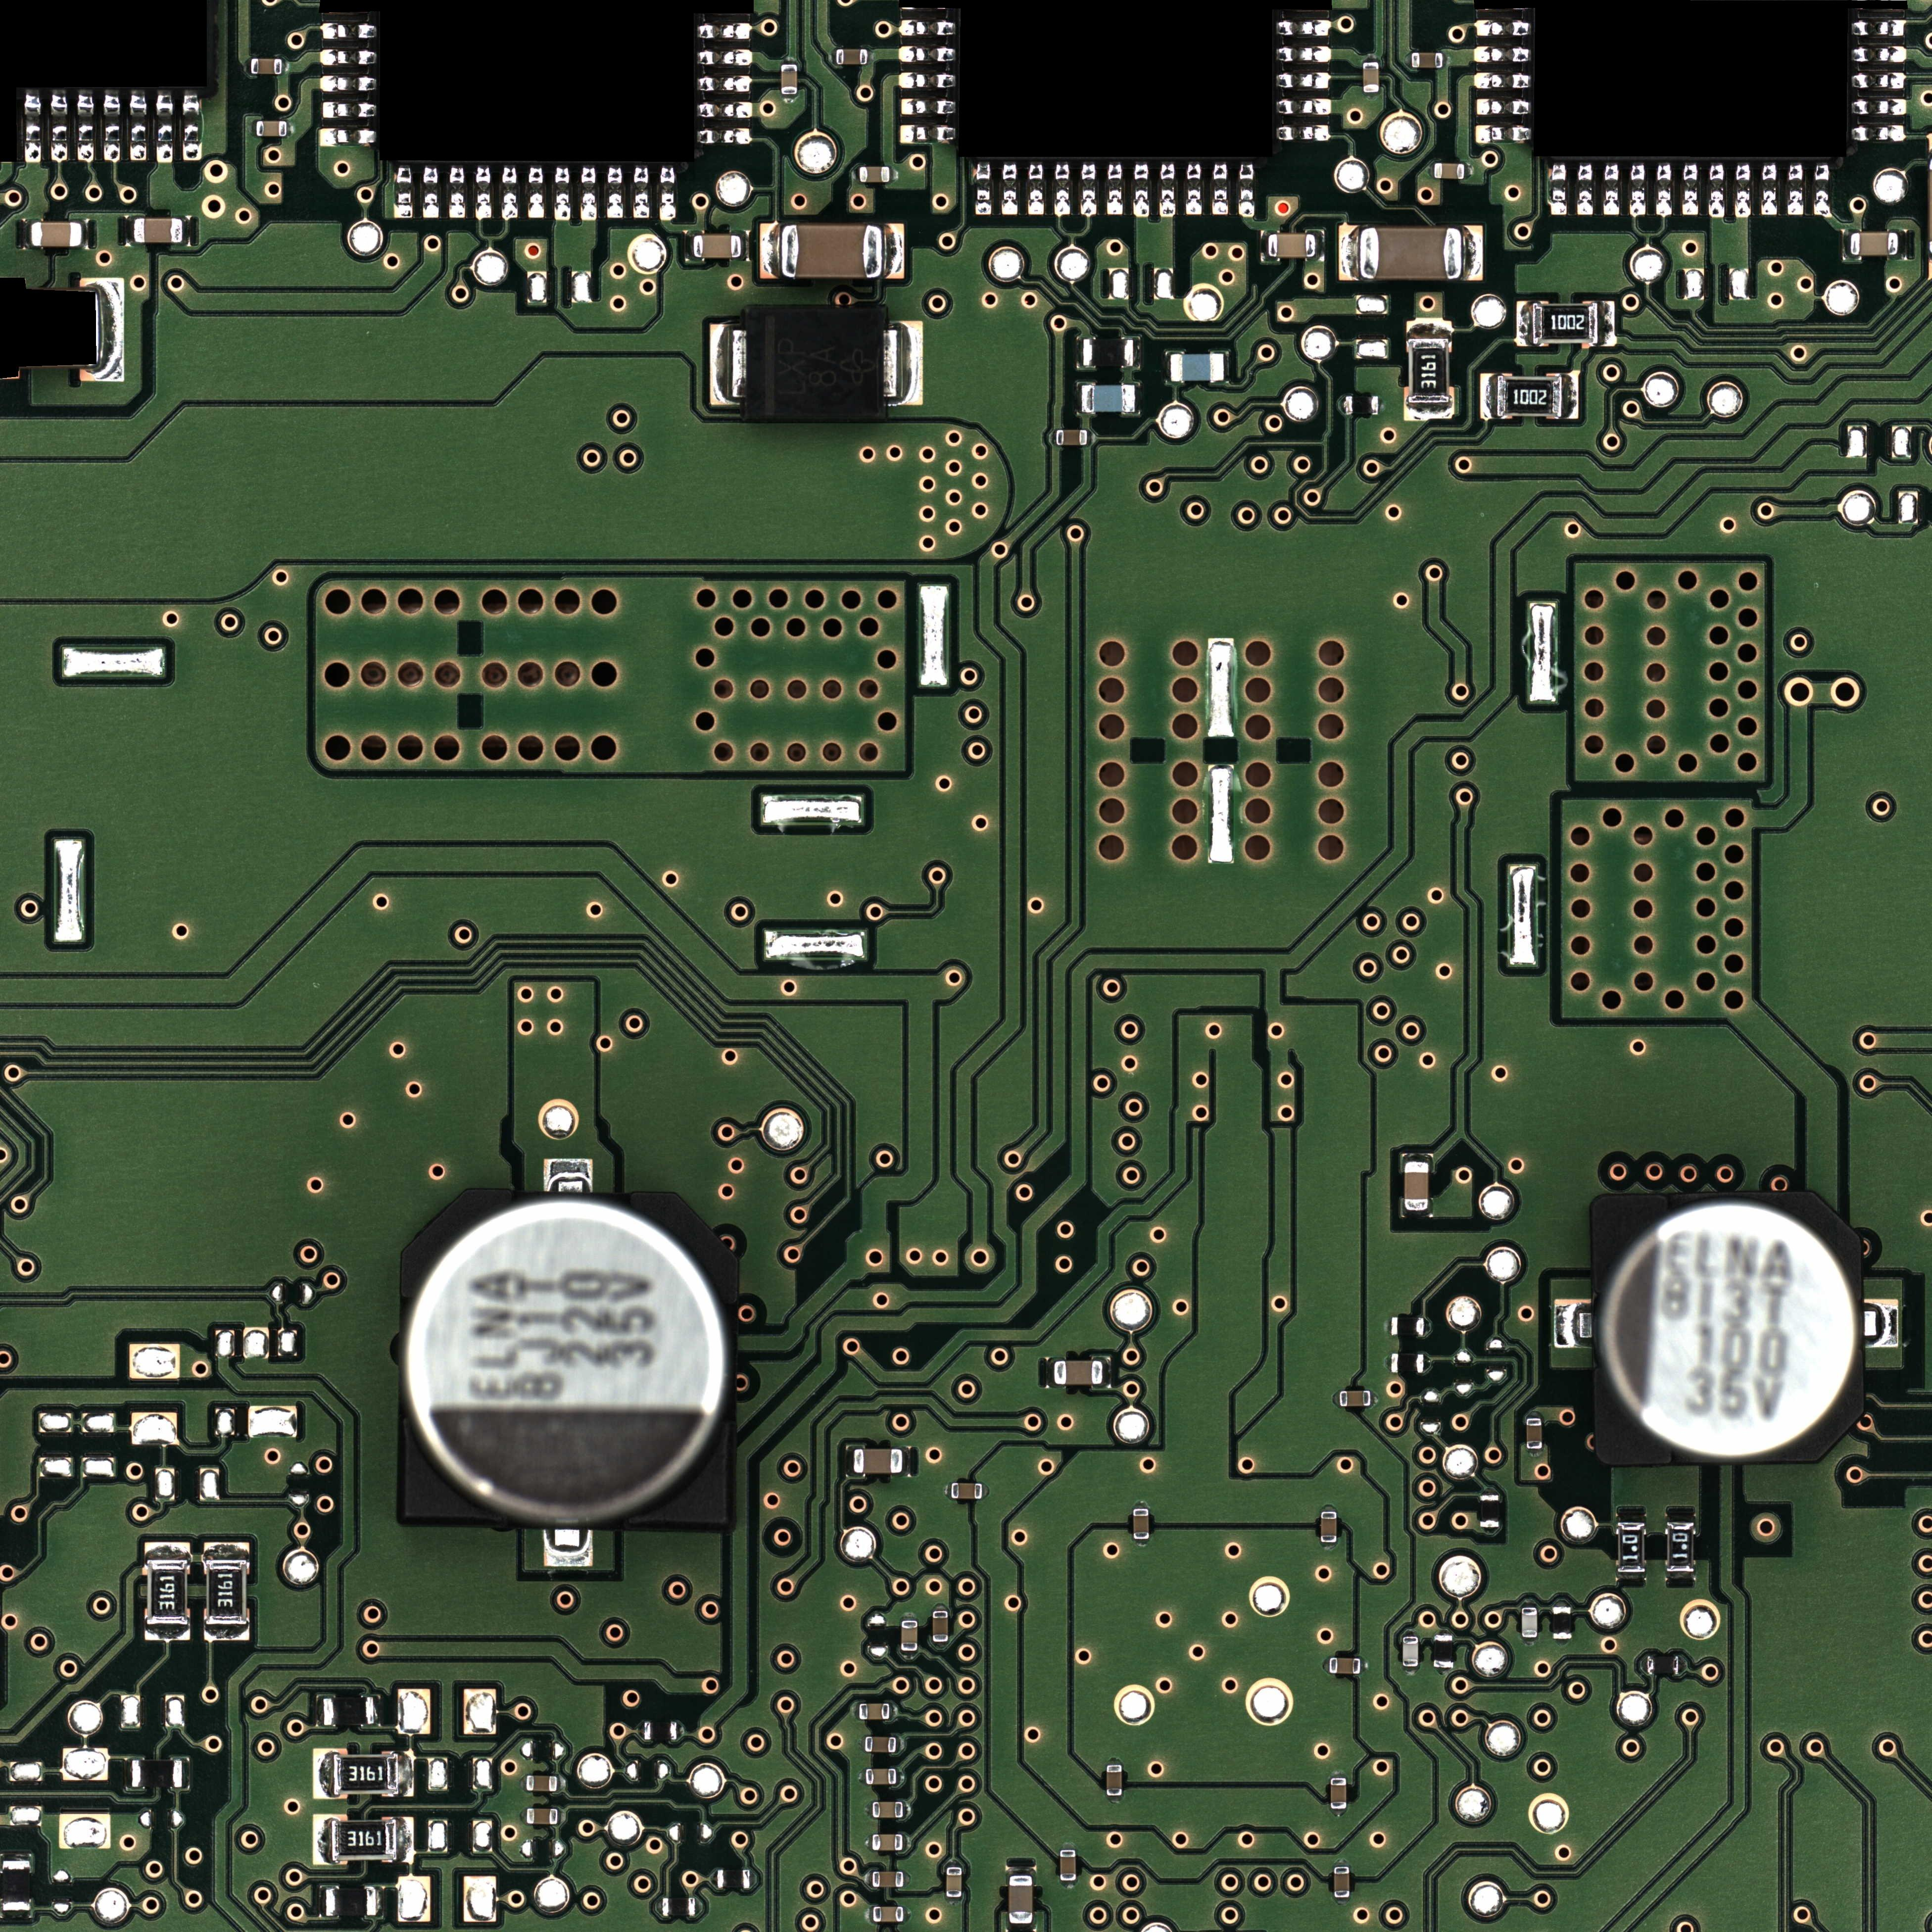Package: (398, 1192, 731, 1527), (1594, 1198, 1861, 1461), (748, 310, 883, 423), (780, 225, 883, 278), (1359, 226, 1461, 280), (1497, 375, 1562, 418), (333, 1755, 398, 1796), (331, 1821, 396, 1861), (1532, 303, 1598, 343), (1408, 338, 1449, 403), (205, 1560, 246, 1624), (147, 1560, 188, 1624), (131, 1760, 182, 1789), (1171, 354, 1224, 380), (1081, 386, 1134, 412), (326, 1888, 375, 1916), (324, 1697, 373, 1725), (2, 1861, 30, 1911), (1083, 338, 1132, 366), (30, 221, 81, 246), (1008, 1875, 1033, 1925), (1619, 1523, 1644, 1573), (134, 218, 182, 242), (855, 1449, 902, 1474), (1054, 1361, 1102, 1385), (1668, 1523, 1693, 1571), (1269, 234, 1315, 258), (694, 235, 741, 258), (1851, 232, 1898, 255), (1405, 1162, 1428, 1210), (1391, 1353, 1424, 1373), (644, 1721, 676, 1741), (1433, 1635, 1453, 1667), (662, 1898, 695, 1916), (1345, 396, 1378, 414), (1391, 1318, 1424, 1336), (718, 1870, 750, 1888), (1481, 1495, 1499, 1527), (1553, 1606, 1571, 1638), (1647, 1656, 1679, 1674), (865, 1769, 897, 1785), (872, 1872, 904, 1888), (1334, 1867, 1350, 1898), (1339, 1391, 1371, 1407), (1329, 1658, 1361, 1674), (251, 58, 281, 74), (257, 120, 287, 136), (837, 50, 867, 65), (782, 64, 798, 94), (860, 166, 890, 182), (527, 1808, 557, 1824), (527, 1776, 557, 1792), (865, 1737, 895, 1753), (932, 1612, 948, 1642), (947, 1867, 962, 1897), (860, 1704, 890, 1720), (952, 1483, 982, 1499), (901, 1621, 916, 1651), (872, 1801, 902, 1817), (872, 1835, 902, 1851), (1056, 430, 1086, 446), (1362, 62, 1378, 92), (1435, 163, 1465, 179), (1403, 1637, 1419, 1667), (1106, 1766, 1122, 1796), (1330, 1778, 1346, 1808), (1060, 1851, 1076, 1881), (1320, 1513, 1336, 1543), (1527, 1419, 1543, 1449), (1522, 1608, 1537, 1637), (874, 1907, 904, 1921), (1412, 53, 1442, 67), (1134, 1509, 1148, 1539)
Solder: (883, 320, 924, 405), (709, 322, 747, 405), (101, 278, 124, 382), (543, 1529, 593, 1568), (1553, 1299, 1592, 1348), (1861, 1299, 1898, 1348), (543, 1157, 593, 1192), (23, 88, 42, 163), (50, 88, 69, 163), (103, 88, 122, 163), (182, 90, 202, 165), (156, 92, 175, 166), (129, 90, 149, 165), (76, 90, 96, 163), (1470, 71, 1532, 90), (1470, 97, 1532, 117), (883, 223, 904, 280), (1461, 225, 1483, 281), (1472, 44, 1532, 64), (1472, 124, 1532, 143), (759, 223, 780, 278), (499, 166, 520, 221), (632, 166, 653, 221), (318, 21, 377, 41), (897, 18, 955, 37), (897, 44, 955, 64), (897, 97, 955, 117), (897, 71, 955, 90), (1849, 18, 1907, 37), (1851, 44, 1909, 64), (1851, 71, 1909, 90), (1851, 124, 1909, 143), (1851, 97, 1909, 117), (525, 166, 547, 219), (1339, 225, 1359, 281), (1474, 18, 1530, 37), (658, 166, 678, 221), (973, 161, 993, 216), (1000, 161, 1019, 216), (1053, 161, 1072, 216), (1026, 161, 1046, 216), (1131, 163, 1150, 218), (1184, 163, 1203, 218), (1210, 163, 1230, 218), (320, 48, 379, 65), (320, 74, 379, 92), (320, 101, 379, 119), (318, 127, 377, 145), (395, 165, 414, 218), (421, 166, 441, 219), (474, 166, 494, 219), (448, 165, 467, 218), (554, 168, 573, 221), (580, 168, 600, 221), (897, 126, 955, 143), (1104, 163, 1123, 216), (1079, 163, 1099, 216), (1157, 163, 1177, 216), (1707, 165, 1727, 218), (1681, 165, 1700, 218), (695, 101, 752, 119), (695, 74, 752, 92), (697, 127, 754, 145), (1276, 46, 1332, 64), (1277, 97, 1334, 115), (1276, 124, 1332, 142), (313, 1748, 333, 1799), (607, 166, 625, 221), (1237, 163, 1254, 218), (1734, 165, 1752, 219), (1787, 163, 1805, 218), (1550, 163, 1568, 216), (1576, 163, 1594, 216), (1603, 163, 1621, 216), (1760, 165, 1778, 218), (1813, 163, 1831, 216), (695, 23, 754, 39), (313, 1813, 331, 1865), (1656, 165, 1674, 216), (1629, 165, 1647, 216), (697, 50, 754, 65), (1276, 19, 1332, 35), (1277, 73, 1334, 88), (1407, 318, 1453, 338), (1405, 403, 1453, 421), (396, 1817, 414, 1863), (145, 1543, 191, 1560), (203, 1543, 249, 1560), (1598, 301, 1615, 347), (143, 1624, 191, 1640), (1562, 372, 1578, 419), (398, 1752, 414, 1798), (203, 1626, 249, 1642), (1516, 301, 1532, 347), (1481, 373, 1497, 419), (315, 1695, 324, 1727), (375, 1886, 384, 1918), (902, 1445, 911, 1477), (1316, 230, 1325, 262), (1260, 230, 1269, 262), (1102, 1357, 1111, 1389), (1046, 1357, 1054, 1389), (1401, 1154, 1433, 1162), (1005, 1923, 1037, 1932), (1898, 228, 1907, 260), (1665, 1571, 1697, 1580), (182, 216, 191, 246), (126, 216, 134, 246), (21, 219, 30, 249), (685, 232, 694, 262), (741, 230, 750, 260), (1007, 1867, 1037, 1875), (1842, 230, 1851, 260), (1615, 1513, 1645, 1522), (0, 1911, 32, 1918), (373, 1695, 380, 1727), (318, 1886, 326, 1918), (1401, 1210, 1433, 1217), (1615, 1573, 1647, 1580), (0, 1852, 32, 1859), (81, 219, 88, 249), (182, 1759, 189, 1789), (124, 1759, 131, 1789), (846, 1445, 853, 1476), (1076, 338, 1083, 368), (1134, 338, 1141, 368), (1134, 384, 1141, 414), (1164, 352, 1171, 382), (1076, 384, 1083, 414), (1667, 1514, 1695, 1522), (1224, 350, 1230, 384), (780, 94, 798, 103), (945, 1897, 962, 1905), (782, 57, 798, 65), (902, 1872, 911, 1888), (895, 1737, 904, 1753), (1426, 163, 1435, 179), (1442, 53, 1451, 69), (1106, 1757, 1122, 1766), (1322, 1658, 1330, 1674), (1132, 1500, 1148, 1509), (1522, 1599, 1537, 1608), (1384, 1316, 1391, 1336), (1384, 1353, 1391, 1373), (1481, 1527, 1500, 1534), (830, 48, 837, 65), (902, 1801, 909, 1819), (901, 1651, 918, 1658), (750, 1870, 757, 1888), (902, 1907, 911, 1921), (901, 1614, 918, 1621), (865, 1907, 874, 1921), (695, 1898, 702, 1916), (711, 1870, 718, 1888), (1405, 51, 1412, 69), (1362, 55, 1380, 62), (1362, 92, 1380, 99), (1378, 396, 1385, 414), (1424, 1318, 1431, 1336), (982, 1483, 989, 1500), (1132, 1539, 1150, 1546), (1320, 1504, 1338, 1511), (1106, 1796, 1123, 1803), (1320, 1543, 1338, 1550), (1060, 1881, 1077, 1888), (1553, 1599, 1571, 1606), (1553, 1638, 1571, 1645), (1481, 1488, 1499, 1495), (1640, 1656, 1647, 1674), (1679, 1656, 1686, 1674), (287, 120, 294, 136), (244, 58, 251, 74), (249, 120, 257, 136), (281, 58, 288, 74), (890, 166, 897, 182), (853, 166, 860, 182), (865, 1801, 872, 1817), (932, 1603, 948, 1610), (865, 1835, 872, 1851), (865, 1872, 872, 1888), (902, 1835, 909, 1851), (895, 1769, 902, 1785), (947, 1859, 962, 1867), (945, 1483, 952, 1499), (932, 1642, 948, 1649), (858, 1769, 865, 1785), (557, 1776, 564, 1792), (557, 1808, 564, 1824), (858, 1736, 865, 1752), (853, 1704, 860, 1720), (890, 1704, 897, 1720), (520, 1775, 527, 1790), (520, 1808, 527, 1824), (1086, 430, 1093, 446), (1049, 430, 1056, 446), (1371, 1391, 1378, 1407), (1332, 1391, 1339, 1407), (1060, 1842, 1076, 1849), (1361, 1658, 1368, 1674), (1330, 1810, 1346, 1817), (1334, 1898, 1350, 1905), (1334, 1859, 1350, 1867), (1403, 1667, 1419, 1674), (1403, 1629, 1419, 1637), (1330, 1771, 1346, 1778), (1465, 163, 1472, 179), (1527, 1412, 1543, 1419), (1527, 1449, 1543, 1456), (1522, 1638, 1537, 1645), (1424, 1353, 1430, 1373), (1433, 1668, 1453, 1674), (867, 50, 874, 64), (639, 1721, 644, 1739), (656, 1898, 662, 1916), (678, 1721, 683, 1739), (1339, 396, 1345, 414), (1435, 1629, 1453, 1635), (1454, 1353, 1456, 1366)
